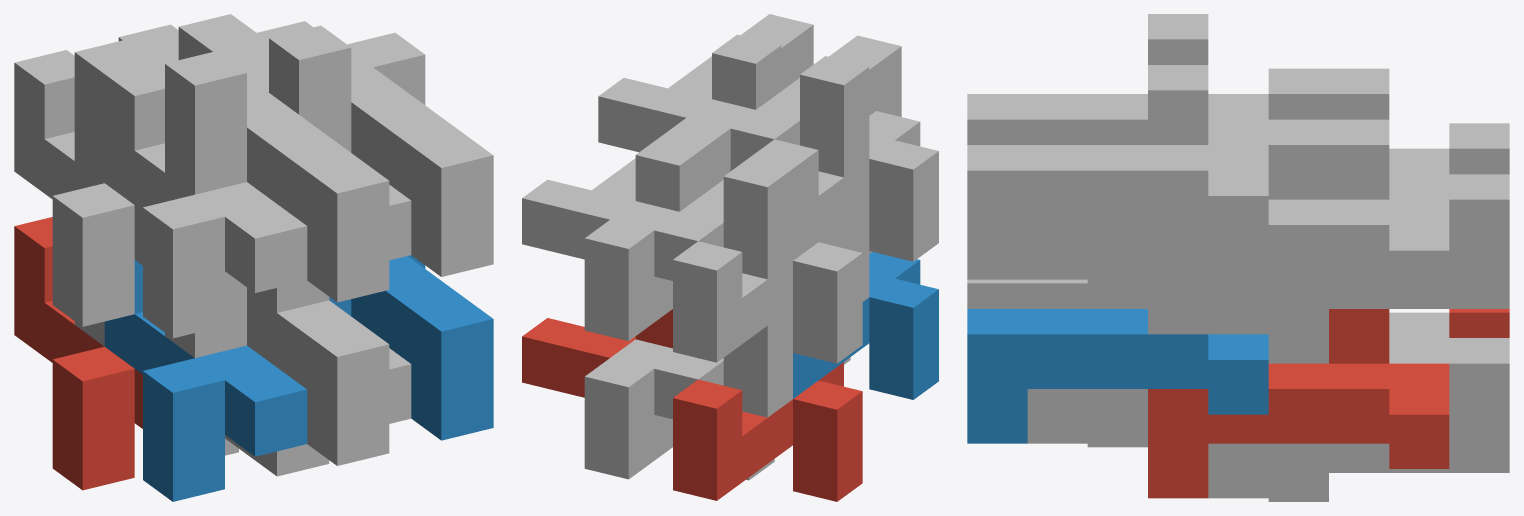
File: tiling.obj
3 views of the same model, side by side, from view 1: azimuth 30°, elevation 25°; view 2: azimuth 150°, elevation 25°; view 3: azimuth 270°, elevation 25° (orthographic). The views are drawn at different scales.
Visible parts, largest first — view 1: copy_2_domain_4, copy_2_domain_8, copy_1_domain_4, copy_1_domain_2, copy_1_domain_3, copy_2_domain_2, copy_1_domain_1, copy_2_domain_6, copy_2_domain_3, copy_1_domain_8, copy_1_domain_6, copy_2_domain_7 (+1 smaller); view 2: copy_1_domain_1, copy_1_domain_3, copy_1_domain_4, copy_2_domain_4, copy_2_domain_8, copy_2_domain_3, copy_2_domain_7, copy_1_domain_2, copy_2_domain_1, copy_1_domain_5, copy_1_domain_7, copy_2_domain_5 (+2 smaller); view 3: copy_2_domain_8, copy_2_domain_7, copy_2_domain_5, copy_2_domain_6, copy_1_domain_5, copy_1_domain_7, copy_2_domain_4, copy_1_domain_8, copy_1_domain_6, copy_2_domain_3, copy_2_domain_2, copy_1_domain_3 (+3 smaller).
Boxes of the visible parts, left/top/right/bottom form: copy_2_domain_4: left=165, top=51, right=389, bottom=302; copy_2_domain_8: left=269, top=25, right=493, bottom=276; copy_1_domain_4: left=104, top=61, right=307, bottom=338; copy_1_domain_2: left=104, top=260, right=307, bottom=501; copy_1_domain_3: left=14, top=50, right=142, bottom=326; copy_2_domain_2: left=165, top=271, right=389, bottom=465; copy_1_domain_1: left=14, top=217, right=142, bottom=490; copy_2_domain_6: left=329, top=255, right=493, bottom=440; copy_2_domain_3: left=74, top=39, right=178, bottom=182; copy_1_domain_8: left=209, top=36, right=411, bottom=312; copy_1_domain_6: left=247, top=348, right=411, bottom=476; copy_2_domain_7: left=178, top=14, right=312, bottom=59; copy_1_domain_1: left=673, top=362, right=862, bottom=501; copy_1_domain_3: left=673, top=224, right=862, bottom=363; copy_1_domain_4: left=749, top=111, right=938, bottom=261; copy_2_domain_4: left=687, top=35, right=901, bottom=177; copy_2_domain_8: left=598, top=14, right=813, bottom=152; copy_2_domain_3: left=610, top=158, right=792, bottom=280; copy_2_domain_7: left=522, top=136, right=704, bottom=259; copy_1_domain_2: left=793, top=252, right=938, bottom=399; copy_2_domain_1: left=610, top=307, right=792, bottom=419; copy_1_domain_5: left=584, top=358, right=774, bottom=480; copy_1_domain_7: left=584, top=219, right=672, bottom=341; copy_2_domain_5: left=522, top=309, right=672, bottom=397; copy_2_domain_8: left=967, top=65, right=1268, bottom=279; copy_2_domain_7: left=1148, top=119, right=1449, bottom=334; copy_2_domain_5: left=1148, top=309, right=1449, bottom=498; copy_2_domain_6: left=967, top=309, right=1268, bottom=443; copy_1_domain_5: left=1208, top=338, right=1509, bottom=501; copy_1_domain_7: left=1208, top=174, right=1509, bottom=334; copy_2_domain_4: left=967, top=14, right=1268, bottom=144; copy_1_domain_8: left=1027, top=119, right=1328, bottom=283; copy_1_domain_6: left=1027, top=309, right=1328, bottom=447; copy_2_domain_3: left=1329, top=68, right=1449, bottom=199; copy_2_domain_2: left=967, top=279, right=1147, bottom=308; copy_1_domain_3: left=1449, top=123, right=1509, bottom=174.
Bounding box in the file's own units: 6 × 8 × 9.
